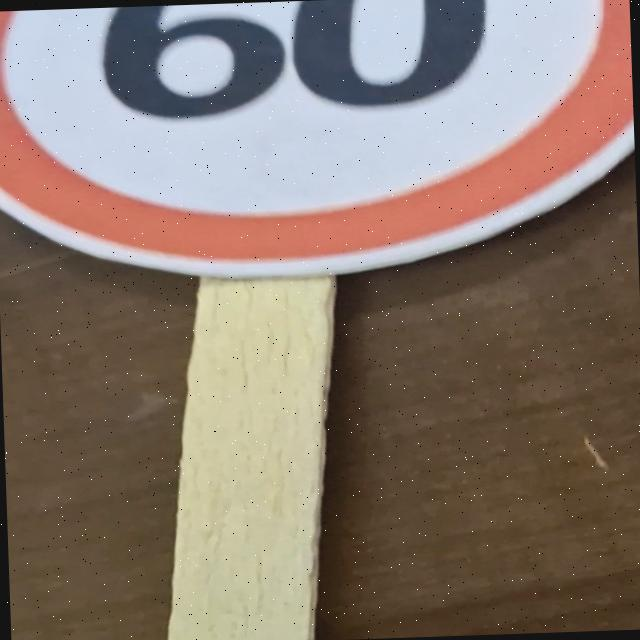Speed60: (0, 0, 638, 292)
